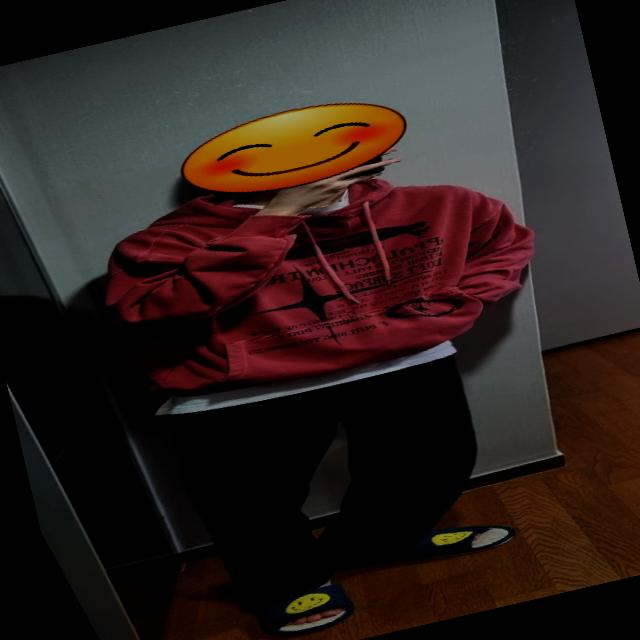denimpants: (163, 344, 499, 616)
hoodies: (84, 117, 556, 426)
